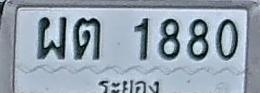0: (216, 18, 238, 60)
1: (134, 17, 149, 60)
8: (187, 18, 209, 60), (158, 18, 180, 60)
A21: (74, 18, 100, 60)
A28: (36, 15, 66, 60)
RYG: (96, 76, 162, 93)
